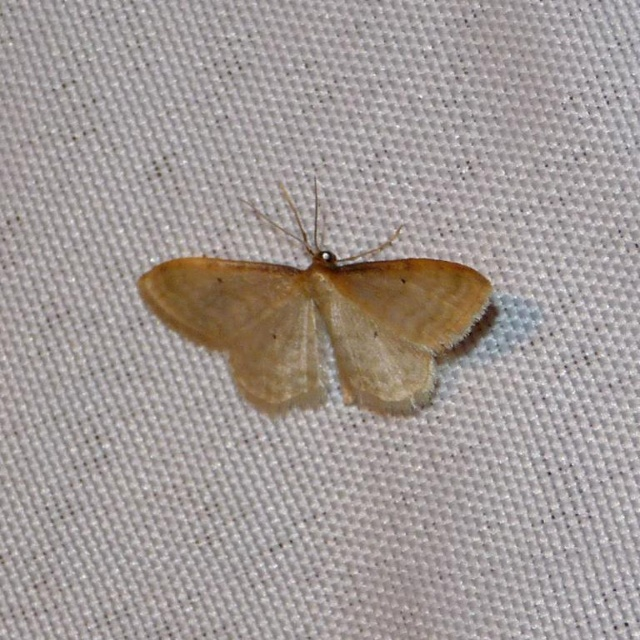Butterfly: (135, 169, 502, 414)
